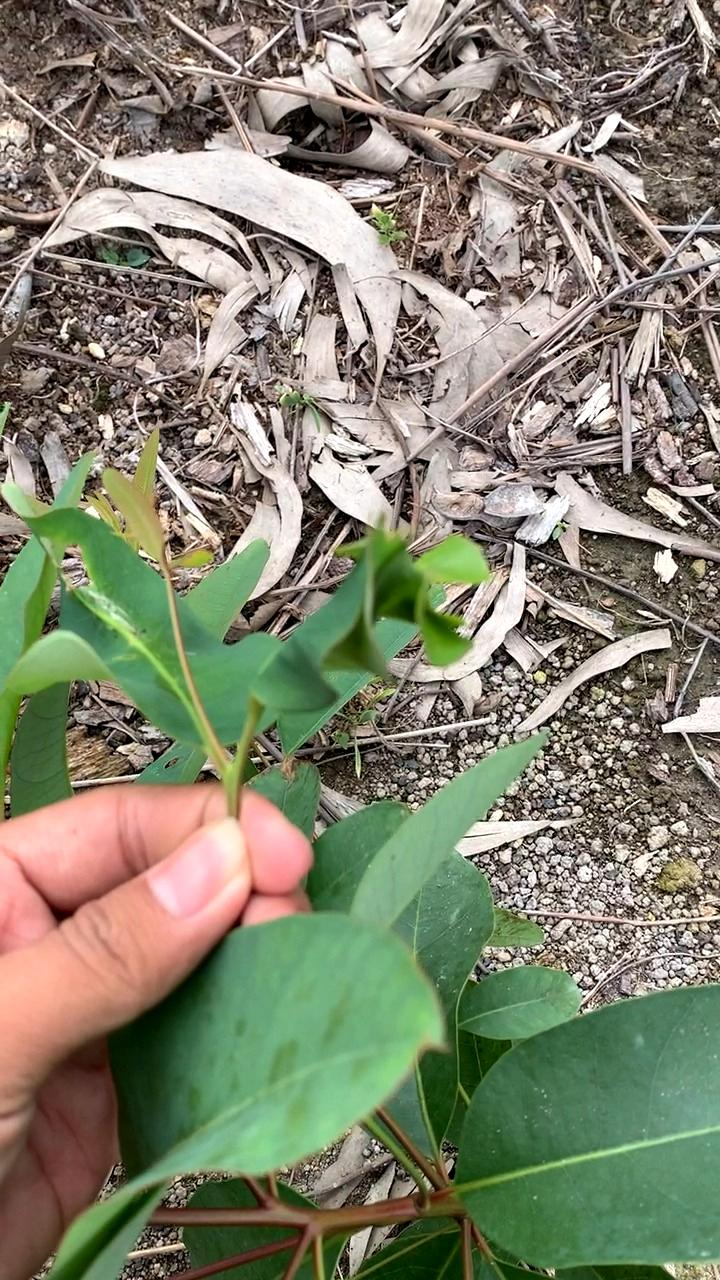Leaf Roller - Leaf: (255, 528, 483, 747)
